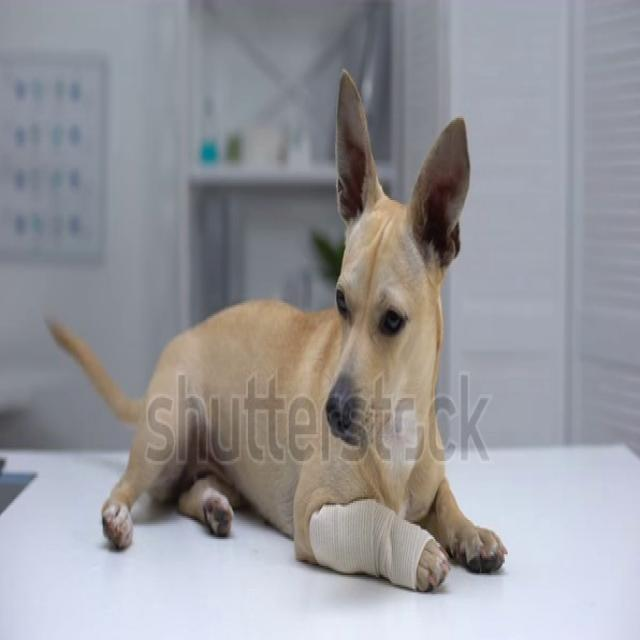injured-animals: (44, 65, 510, 598)
